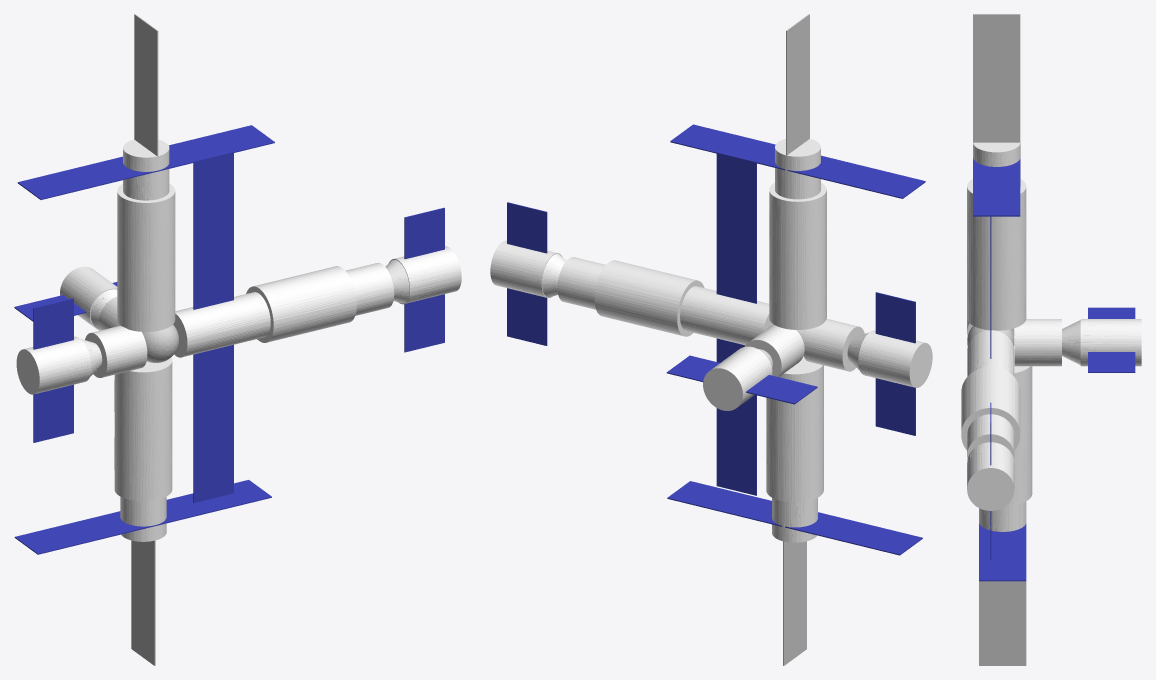
The model's file is space_station.obj.
3 views of the same model, side by side, from view 1: azimuth 30°, elevation 25°; view 2: azimuth 150°, elevation 25°; view 3: azimuth 270°, elevation 25° (orthographic). The views are drawn at different scales.
Parts seen in each view (by area): view 1: obj6, obj2, obj4, obj9, obj8, obj1, obj7, obj3, obj5; view 2: obj6, obj2, obj4, obj9, obj8, obj7, obj1, obj3; view 3: obj2, obj7, obj1, obj4, obj6, obj8, obj3.
Part boxes in pixels (<box>): obj6: <box>173,153,356,502</box>; obj2: <box>17,125,274,331</box>; obj4: <box>14,357,271,554</box>; obj9: <box>16,298,147,442</box>; obj8: <box>345,207,461,352</box>; obj1: <box>134,14,158,156</box>; obj7: <box>14,266,120,330</box>; obj3: <box>131,540,155,665</box>; obj5: <box>142,324,178,362</box>; obj6: <box>594,154,772,495</box>; obj2: <box>670,124,925,329</box>; obj4: <box>667,356,922,555</box>; obj9: <box>803,292,932,435</box>; obj8: <box>490,202,605,345</box>; obj7: <box>666,324,817,410</box>; obj1: <box>786,14,809,155</box>; obj3: <box>783,541,806,665</box>; obj2: <box>967,142,1026,330</box>; obj7: <box>1014,307,1141,372</box>; obj1: <box>973,14,1020,142</box>; obj4: <box>979,350,1032,581</box>; obj6: <box>961,216,1020,450</box>; obj8: <box>967,402,1014,560</box>; obj3: <box>979,581,1026,665</box>.
Size of the model in its own units: 90.17 by 130 by 32.66.
